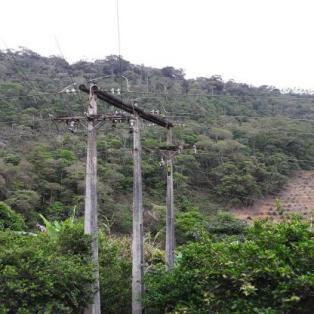Poste: (81, 78, 103, 314), (130, 101, 148, 314), (162, 122, 177, 269)
